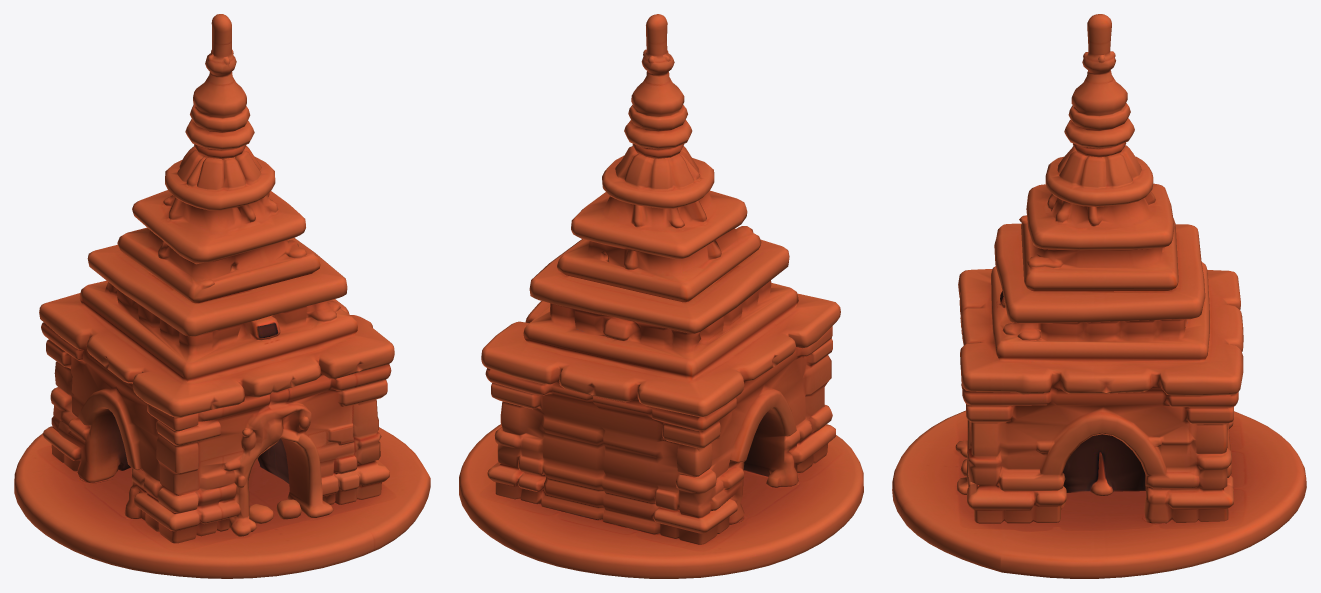
The model's file is myan-envi-1.glb.
3 renders of one model, left to right at view 1: azimuth 30°, elevation 25°; view 2: azimuth 150°, elevation 25°; view 3: azimuth 270°, elevation 25°, orthographic.
Parts seen in each view (by area): view 1: tripo_node_3534d2e1-1501-467a-9284-b1e47718e864; view 2: tripo_node_3534d2e1-1501-467a-9284-b1e47718e864; view 3: tripo_node_3534d2e1-1501-467a-9284-b1e47718e864.
Part boxes in pixels (left/top/right/bottom): tripo_node_3534d2e1-1501-467a-9284-b1e47718e864: left=14, top=14, right=430, bottom=578; tripo_node_3534d2e1-1501-467a-9284-b1e47718e864: left=459, top=14, right=863, bottom=578; tripo_node_3534d2e1-1501-467a-9284-b1e47718e864: left=892, top=14, right=1306, bottom=578.
Size of the model in its own units: 0.769 by 0.9995 by 0.7827.
1 material, 1 textured.
